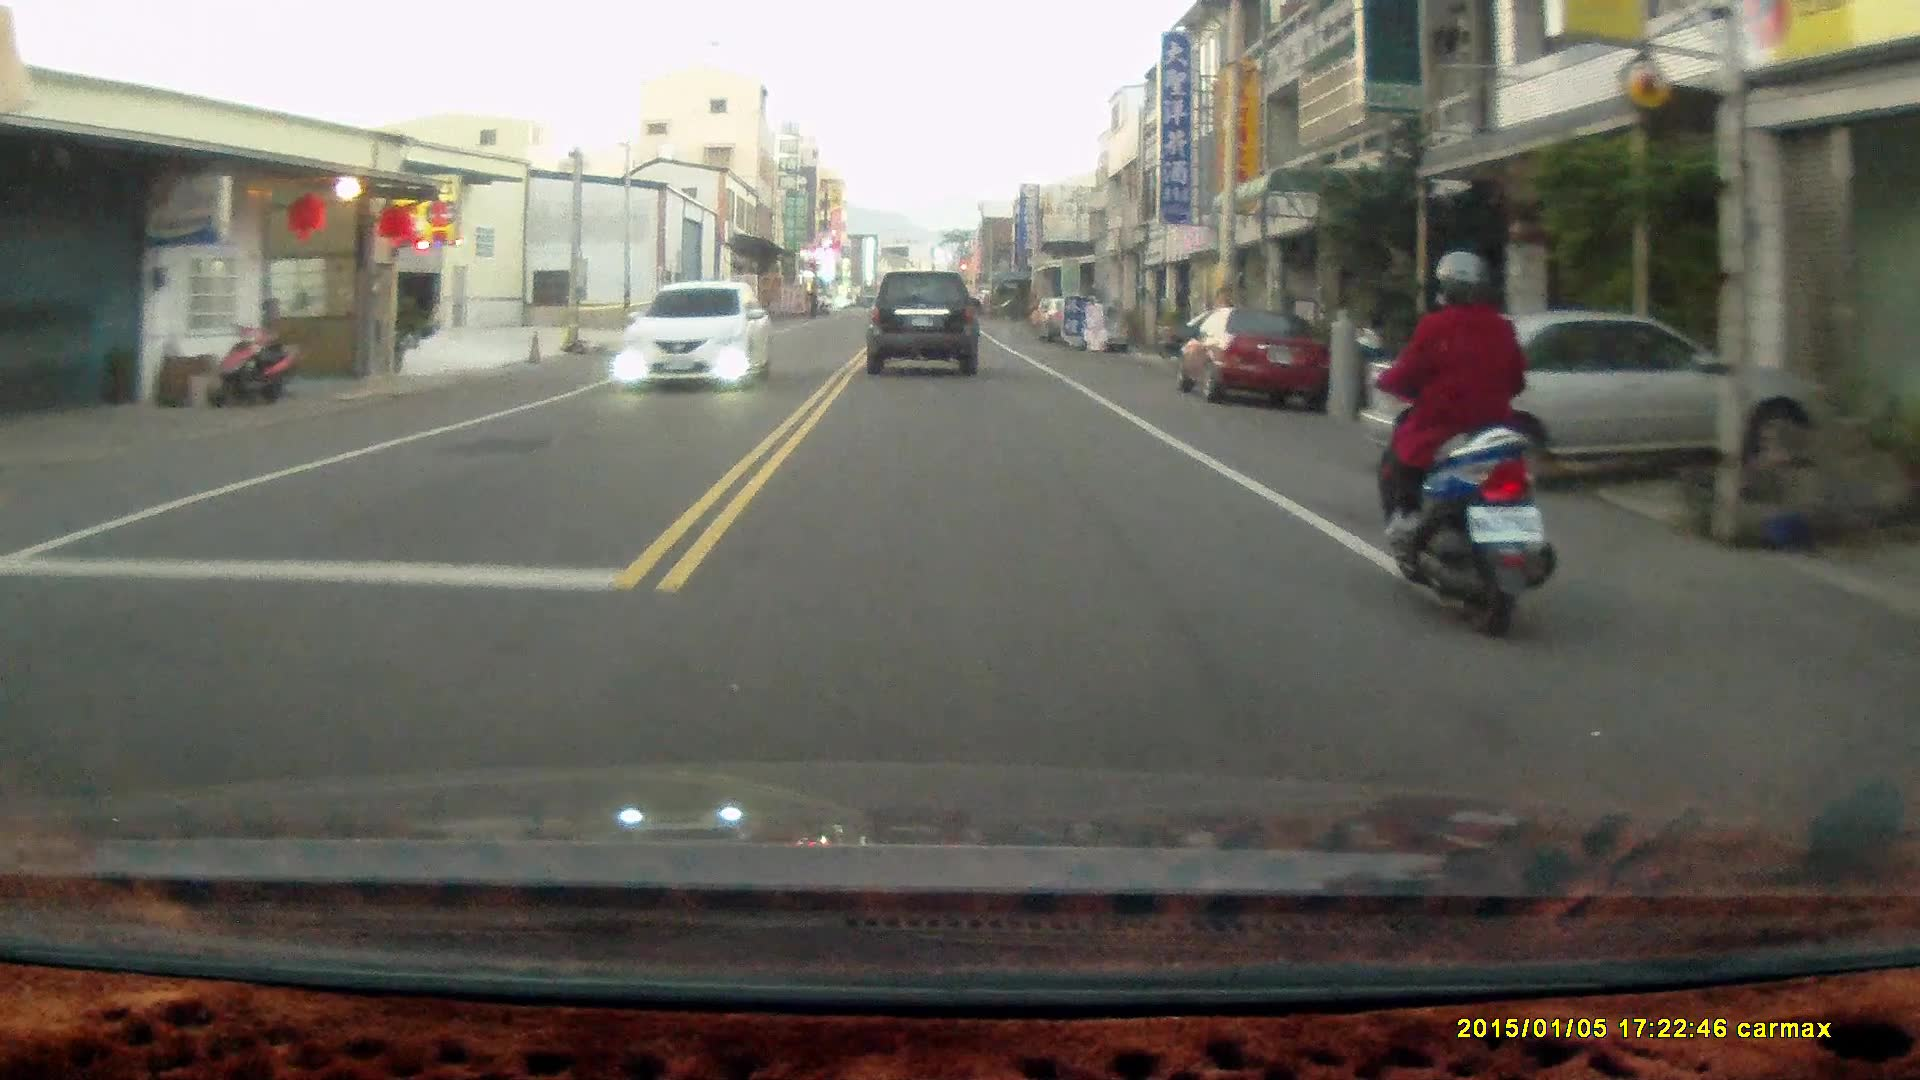rider: (1354, 240, 1555, 632)
vehicle: (1361, 308, 1824, 500), (620, 280, 775, 388), (1175, 302, 1329, 404), (866, 265, 983, 373)
